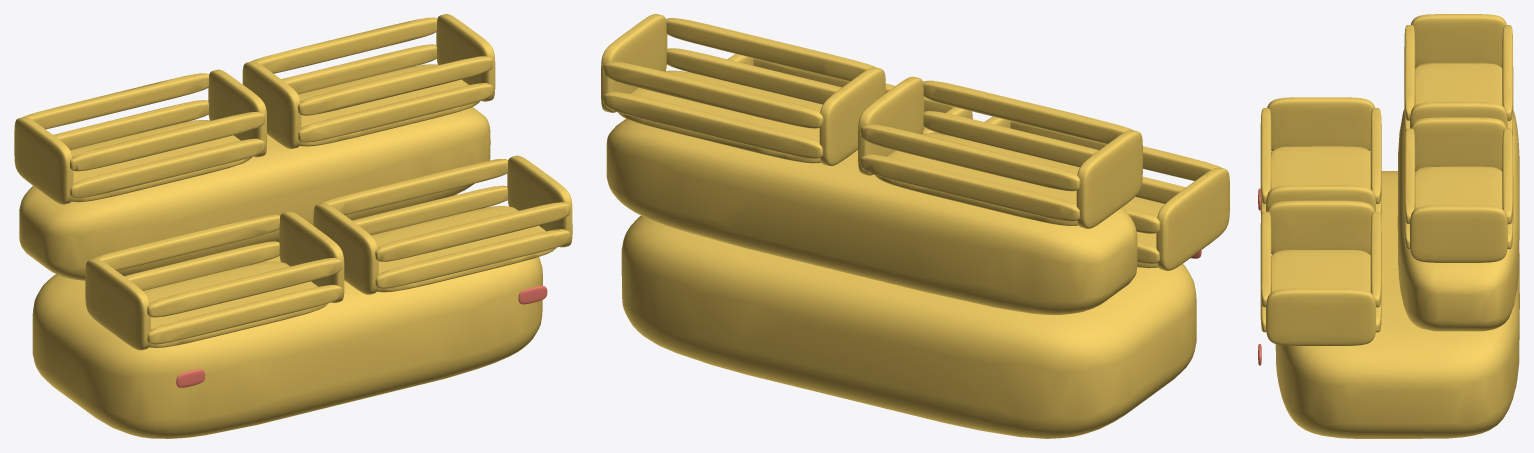
Rendered from vitrina_frutas_2.glb.
3 renders of one model, left to right at view 1: azimuth 30°, elevation 25°; view 2: azimuth 150°, elevation 25°; view 3: azimuth 270°, elevation 25°, orthographic. The views are drawn at different scales.
Parts seen in each view (by area): view 1: base.002, escalon, lado guacal.006, fondo guacal.004, tabla guacal.012, tabla guacal.016, tabla guacal.025, fondo guacal.003, tabla guacal.013, tabla guacal.021, tabla guacal.017, tabla guacal.024 (+18 smaller); view 2: base.002, escalon, lado guacal.006, tabla guacal.027, tabla guacal.023, tabla guacal.026, tabla guacal.022, lado guacal.010, tabla guacal.025, tabla guacal.021, fondo guacal.005, fondo guacal.006 (+9 smaller); view 3: base.002, escalon, lado guacal.009, lado guacal.013, lado guacal.006, lado guacal.008, lado guacal.010, lado guacal.012, fondo guacal.003, fondo guacal.004, fondo guacal.006, fondo guacal.005 (+10 smaller).
Part boxes in pixels (x1,y1,x2,y2): base.002: [32, 194, 542, 438]; escalon: [19, 107, 490, 280]; lado guacal.006: [85, 258, 150, 350]; fondo guacal.004: [371, 206, 555, 292]; tabla guacal.012: [147, 284, 342, 344]; tabla guacal.016: [375, 229, 570, 288]; tabla guacal.025: [298, 56, 492, 115]; fondo guacal.003: [143, 261, 327, 347]; tabla guacal.013: [147, 258, 342, 317]; tabla guacal.021: [70, 112, 264, 171]; tabla guacal.017: [375, 202, 570, 261]; tabla guacal.024: [298, 83, 492, 142]; base.002: [621, 215, 1196, 438]; escalon: [606, 118, 1137, 314]; lado guacal.006: [1156, 167, 1229, 270]; tabla guacal.027: [603, 61, 823, 128]; tabla guacal.023: [860, 124, 1080, 191]; tabla guacal.026: [603, 91, 822, 158]; tabla guacal.022: [860, 154, 1080, 221]; lado guacal.010: [1076, 130, 1142, 228]; tabla guacal.025: [666, 18, 875, 81]; tabla guacal.021: [923, 80, 1132, 143]; fondo guacal.005: [875, 133, 1079, 225]; fondo guacal.006: [618, 70, 822, 163]; base.002: [1275, 171, 1519, 438]; escalon: [1397, 109, 1519, 331]; lado guacal.009: [1266, 288, 1375, 345]; lado guacal.013: [1410, 205, 1507, 262]; lado guacal.006: [1267, 97, 1374, 150]; lado guacal.008: [1267, 200, 1374, 254]; lado guacal.010: [1411, 14, 1506, 67]; lado guacal.012: [1411, 117, 1506, 171]; fondo guacal.003: [1271, 146, 1370, 188]; fondo guacal.004: [1271, 250, 1370, 292]; fondo guacal.006: [1415, 166, 1502, 208]; fondo guacal.005: [1415, 63, 1502, 105].
Size of the model in its own units: 1.56 by 0.8994 by 0.8557.
